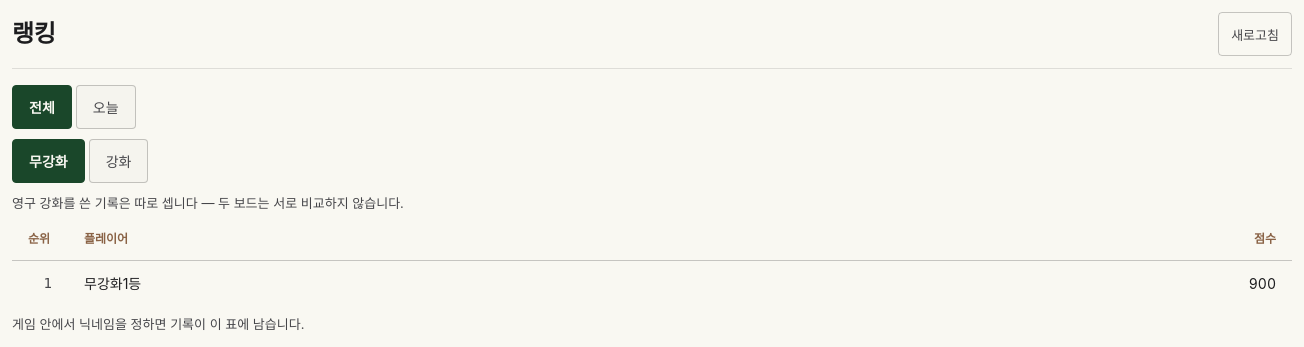
Test: 게임 상세 랭킹 › 두 트랙 모두 기록이 있으면 탭이 생기고, 전환하면 그 보드만 보인다
Expected: the text "무강화1등" is shown, x1=84 y1=275 x2=141 y2=292
Click the tab "강화" at (118, 161), box x1=89 y1=139 x2=148 y2=183
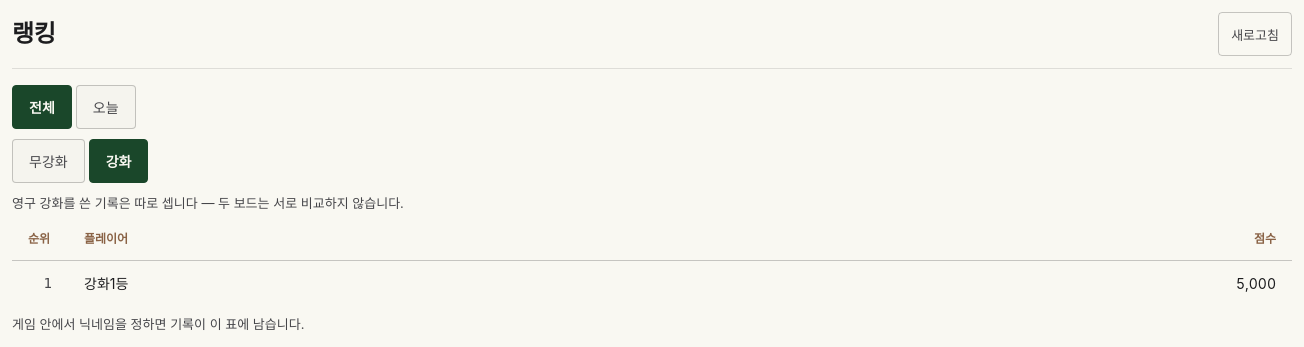
Expected: the text "강화1등" is shown, x1=84 y1=275 x2=128 y2=292
Expected: the text "무강화1등" is gone
